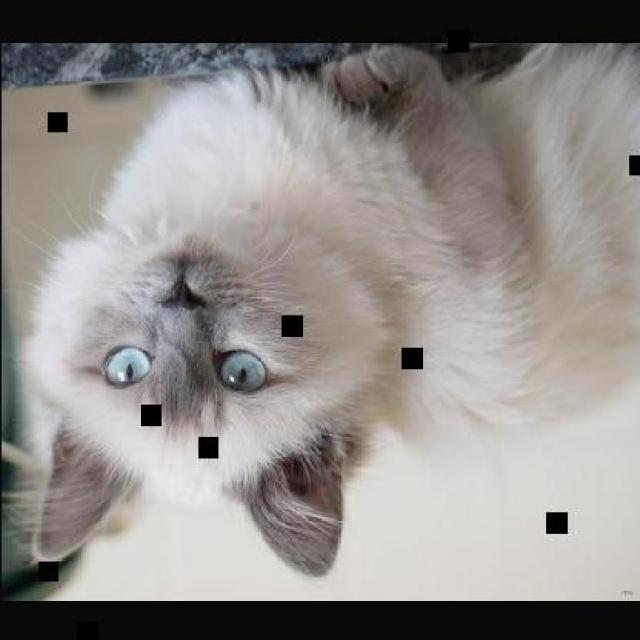unauthorized: (0, 41, 638, 578)
